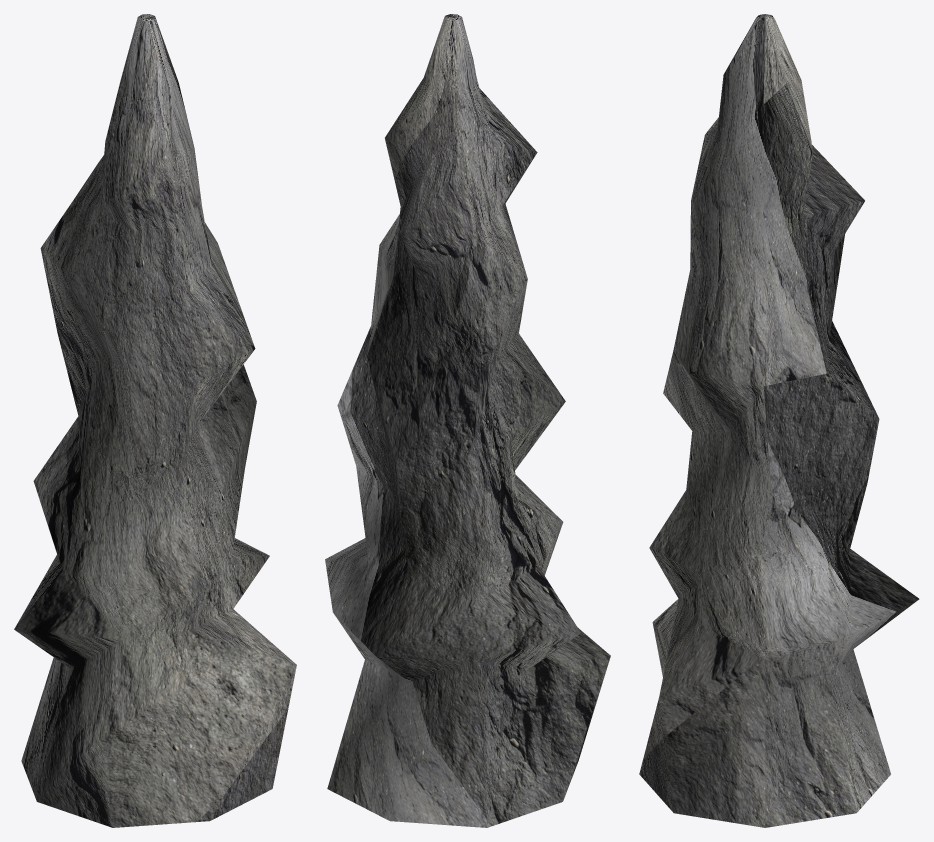
Rendered from stalagtite3.FBX.
3 renders of one model, left to right at view 1: azimuth 30°, elevation 25°; view 2: azimuth 150°, elevation 25°; view 3: azimuth 270°, elevation 25°, orthographic.
Parts seen in each view (by area): view 1: Plane001; view 2: Plane001; view 3: Plane001.
Part boxes in pixels (x1=…): Plane001: x1=14, y1=14, x2=296, y2=827; Plane001: x1=325, y1=14, x2=610, y2=827; Plane001: x1=639, y1=14, x2=919, y2=827.
Size of the model in its own units: 98.68 by 93.67 by 279.
Materials: 1 (1 with a texture image).
